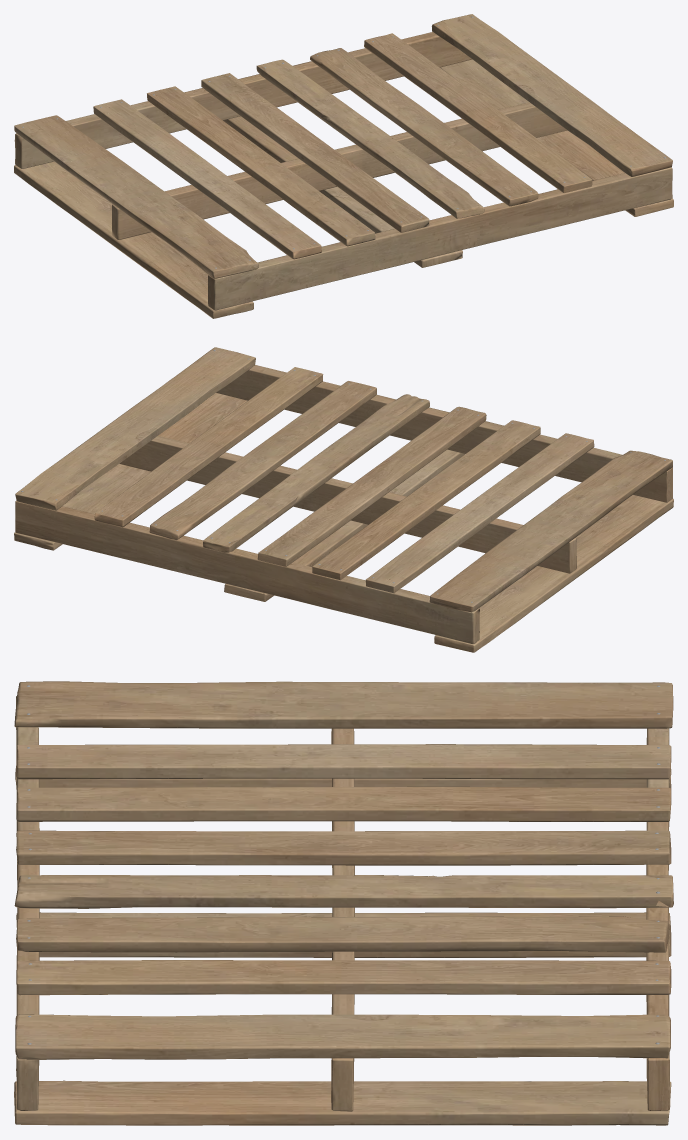
Rendered from pallet_wood_recycled_a05.glb.
3 renders of one model, top to bottom at view 1: azimuth 30°, elevation 25°; view 2: azimuth 150°, elevation 25°; view 3: azimuth 270°, elevation 25°, orthographic. The views are drawn at different scales.
Visible parts, largest first — view 1: sm_pallet_wood_recycled_a05_mesh_00.001; view 2: sm_pallet_wood_recycled_a05_mesh_00.001; view 3: sm_pallet_wood_recycled_a05_mesh_00.001.
Part boxes in pixels (x1,y1,x2,y2): sm_pallet_wood_recycled_a05_mesh_00.001: (14, 14, 673, 318); sm_pallet_wood_recycled_a05_mesh_00.001: (14, 347, 673, 652); sm_pallet_wood_recycled_a05_mesh_00.001: (14, 681, 673, 1125).
Size of the model in its own units: 1.19 by 0.1211 by 0.9046.
2 materials, 2 textured.
